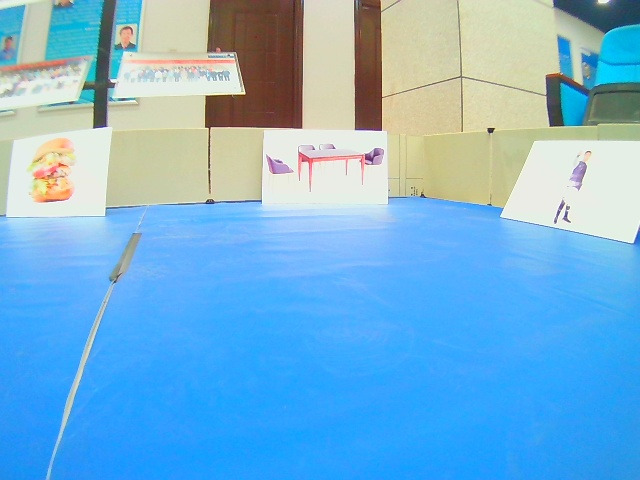food: (5, 128, 114, 220)
person: (500, 140, 639, 244)
table: (261, 129, 391, 208)
